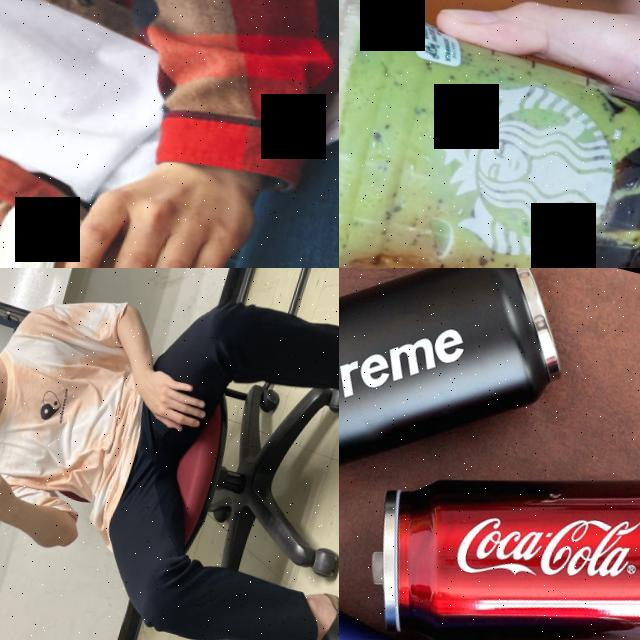can: (339, 268, 597, 597), (347, 420, 640, 640), (339, 564, 640, 640)
cup: (339, 0, 640, 268), (0, 190, 224, 268)
